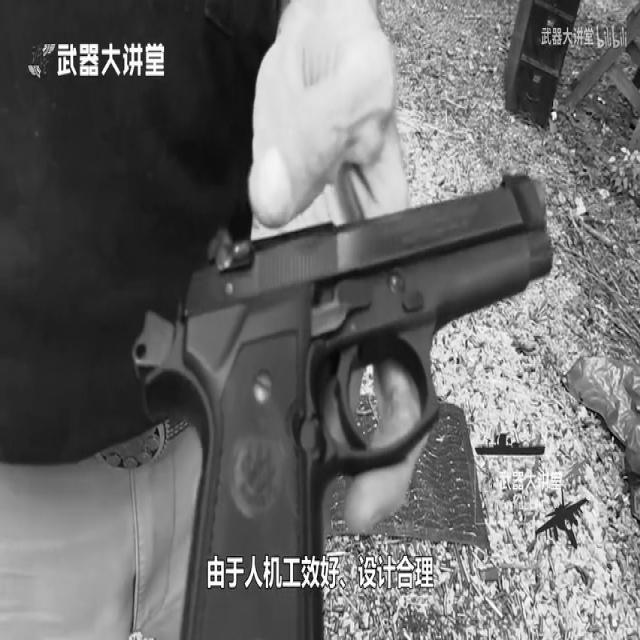Hand-Gun: (80, 129, 624, 640)
